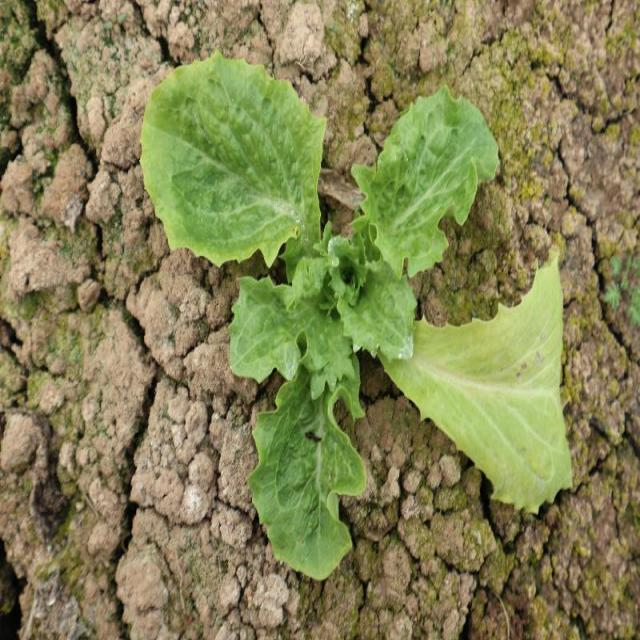crop: (140, 50, 577, 585)
